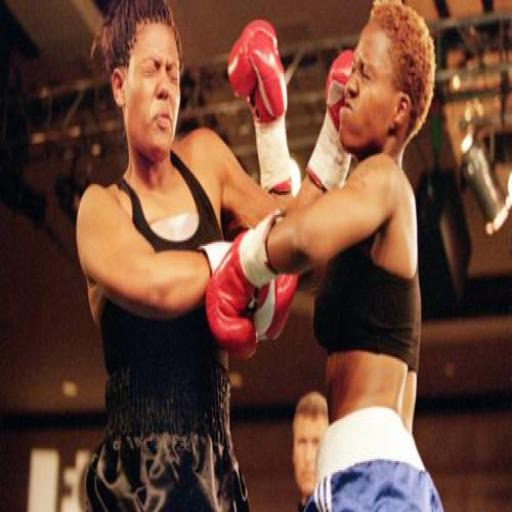boxing: (0, 13, 464, 512)
